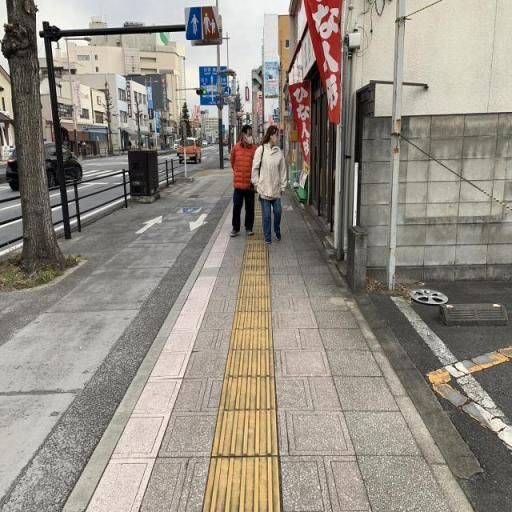line: (202, 455, 280, 511), (211, 409, 276, 456), (221, 376, 275, 410), (225, 350, 274, 377), (229, 328, 273, 350)
